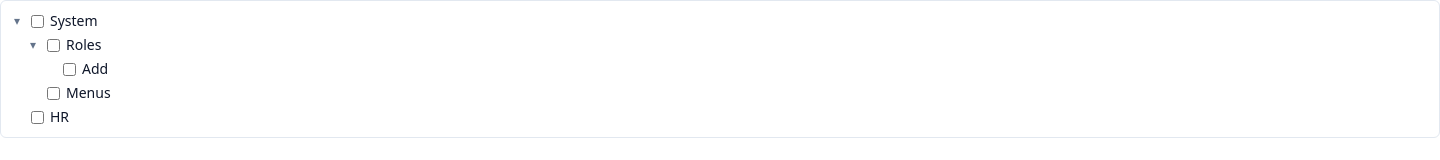
TreeSelect › ticking a parent ticks its children, and shows a mixed state for a partial selection
Click the checkbox labelled "Roles" at (54, 45), box [47,38,60,52]
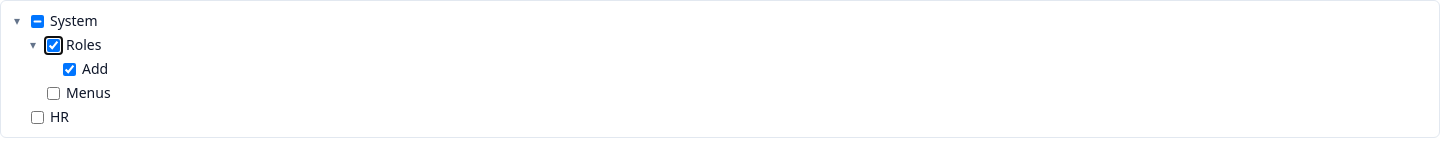
Check: the checkbox labelled "System" is not checked, box [31,14,44,28]
Check: the checkbox labelled "Add" is checked, box [63,62,76,76]
Click the checkbox labelled "Menus" at (54, 93), box [47,86,60,100]
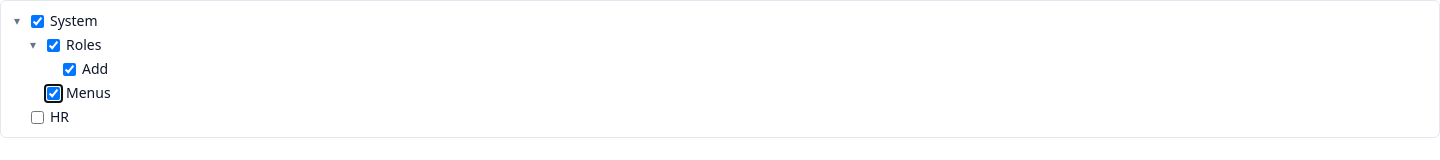
Check: the checkbox labelled "System" is checked, box [31,14,44,28]
